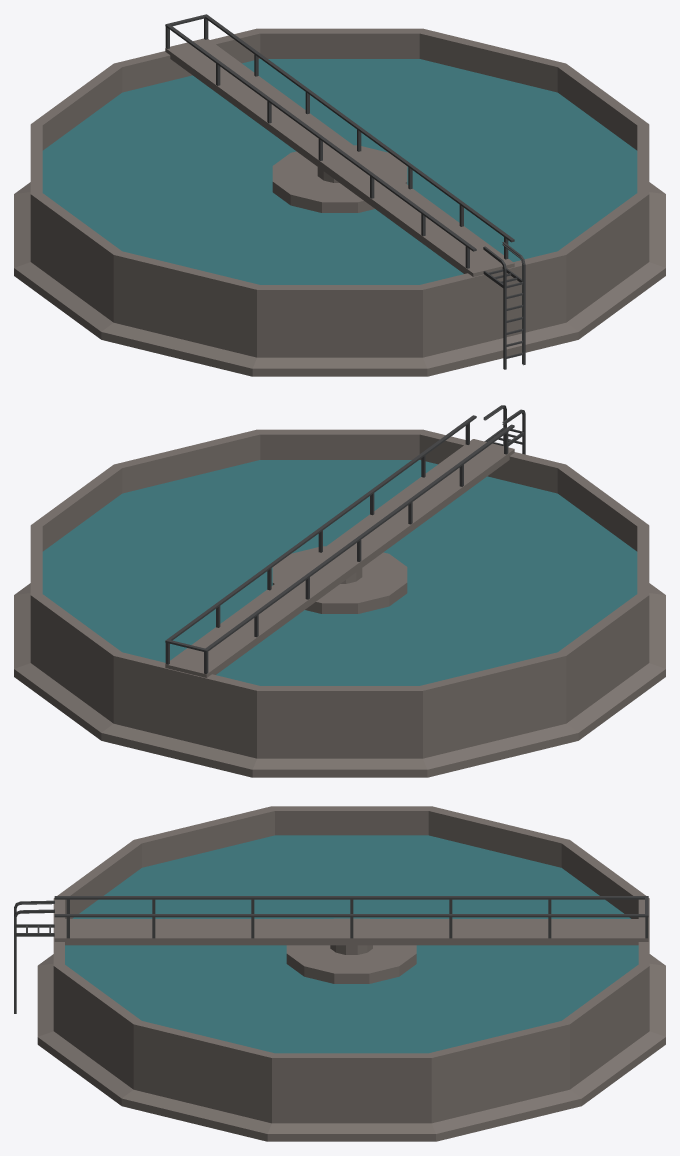
The model's file is SM_Props_Industrial_WaterTank.fbx.
3 views of the same model, one above another, from view 1: azimuth 30°, elevation 25°; view 2: azimuth 150°, elevation 25°; view 3: azimuth 270°, elevation 25° (orthographic). The views are drawn at different scales.
Parts seen in each view (by area): view 1: SM_Props_Industrial_WaterTank; view 2: SM_Props_Industrial_WaterTank; view 3: SM_Props_Industrial_WaterTank.
Part boxes in pixels (x1,y1,x2,y2): SM_Props_Industrial_WaterTank: (14,14,665,376); SM_Props_Industrial_WaterTank: (14,405,665,777); SM_Props_Industrial_WaterTank: (14,806,665,1141).
Bounding box in the file's own units: 1630 × 296 × 1691.
